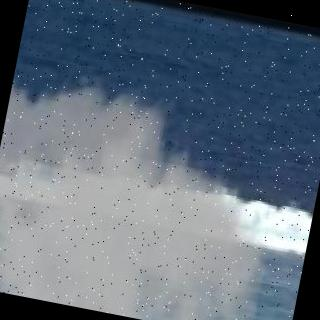smoke: (0, 66, 310, 320)
